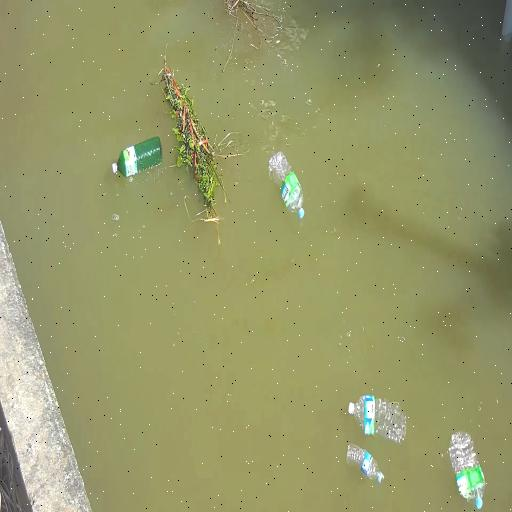plastic: (442, 429, 490, 512), (266, 146, 314, 226), (347, 390, 409, 444), (104, 132, 163, 188), (337, 442, 395, 486)
twig: (164, 58, 224, 224), (223, 0, 261, 40)
